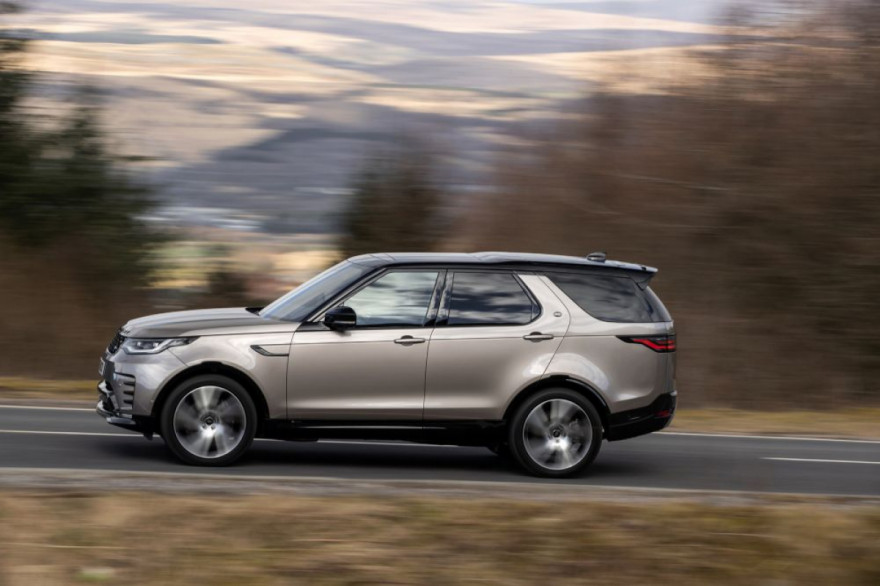car: (98, 253, 678, 478)
